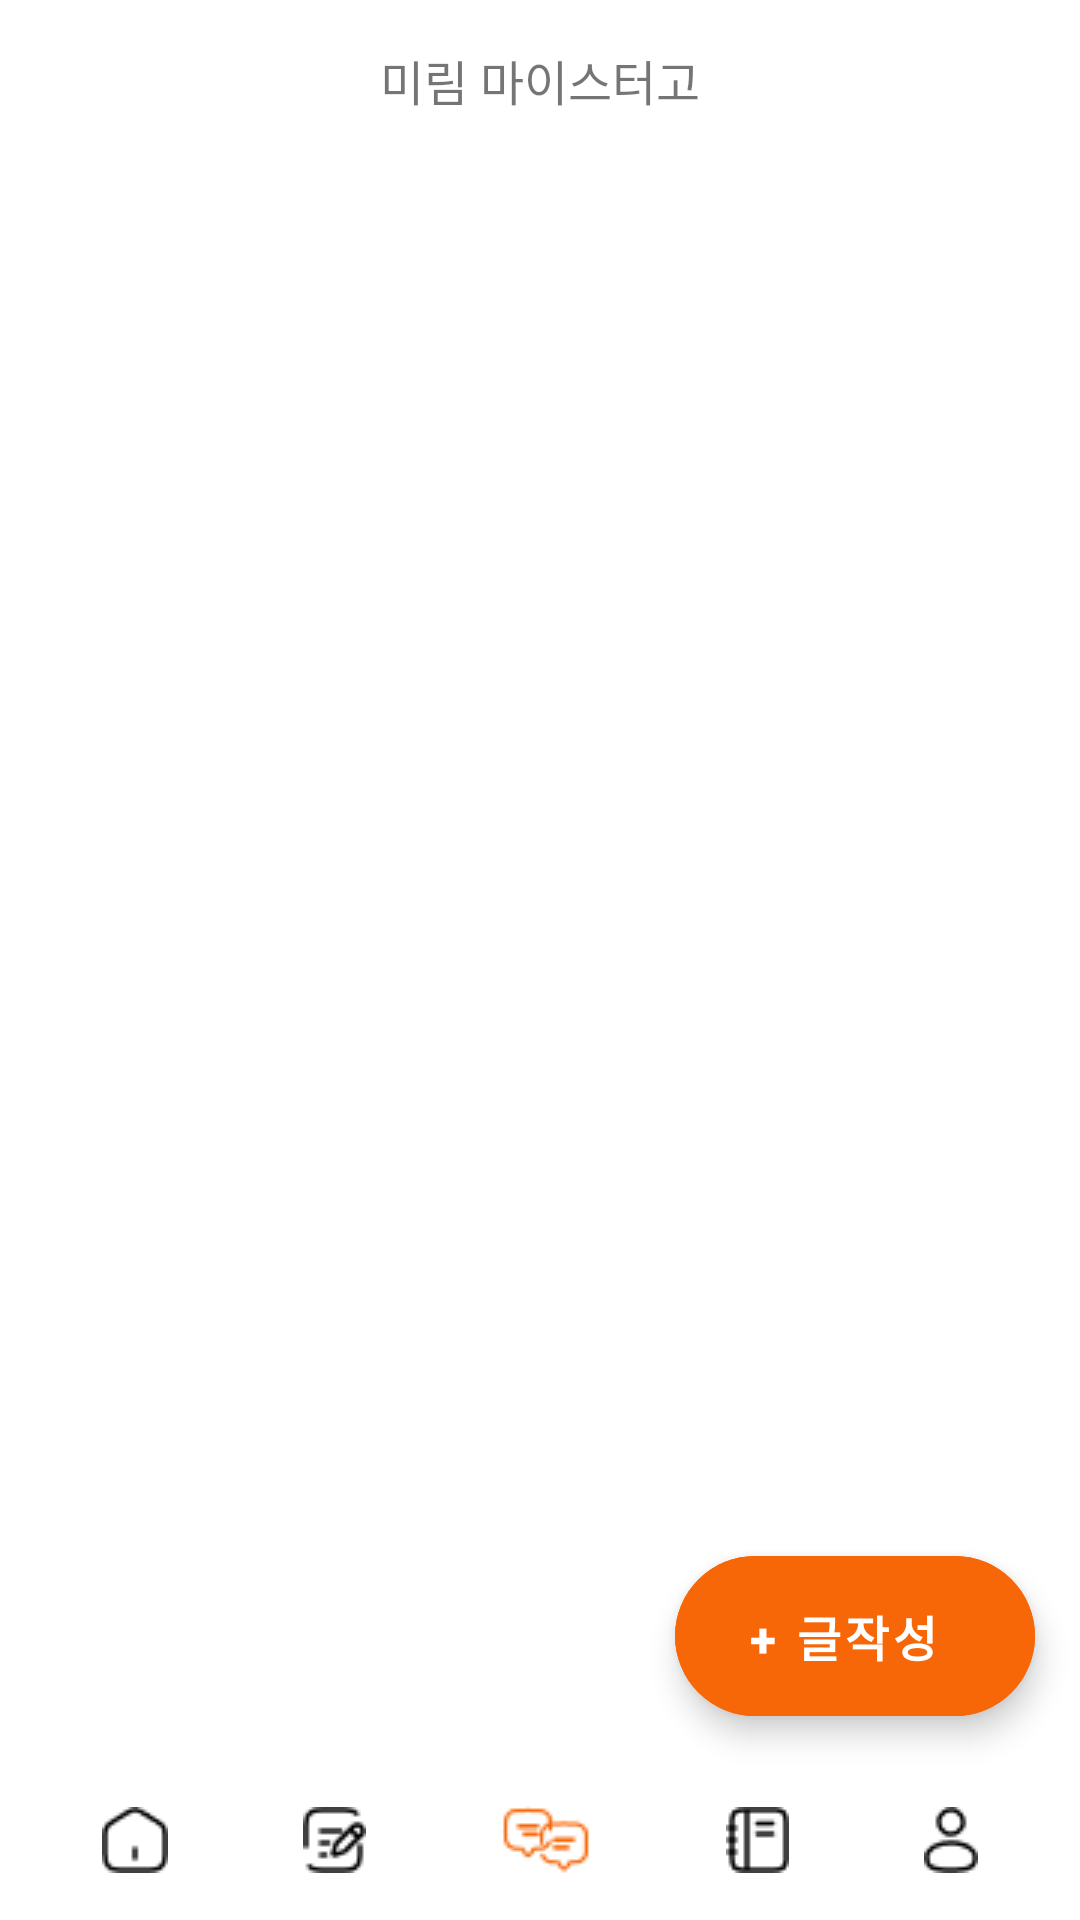

Named icons in this screenshot (1080x1920) and their bounding boxes, (x1, y1, x2, y2):
focus chat: (503, 1806, 589, 1873)
home: (102, 1807, 168, 1873)
mypage: (924, 1807, 978, 1873)
